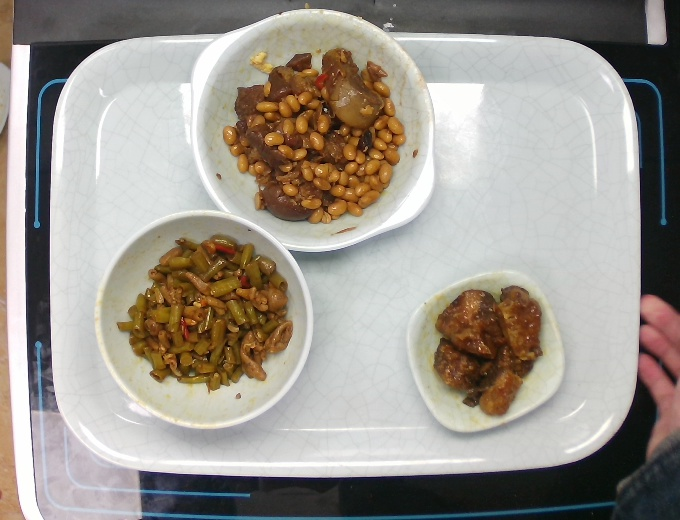JYsf-Fan_Wan: (91, 207, 319, 437)
JYsf-Shuang_Er_Wan: (180, 4, 446, 257)
JYsf-Si_Fang_Die: (398, 262, 573, 440)
